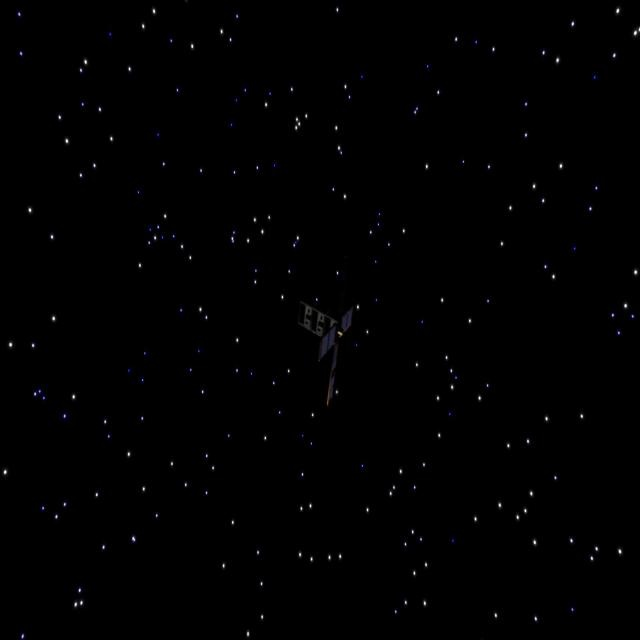medium_debris: (296, 286, 370, 409)
